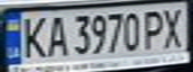0: (121, 9, 145, 53)
3: (69, 11, 93, 56)
7: (106, 10, 127, 54)
9: (87, 10, 109, 55)
A: (42, 12, 69, 59)
K: (18, 12, 48, 60)
P: (139, 7, 169, 52)
X: (157, 4, 190, 51)
